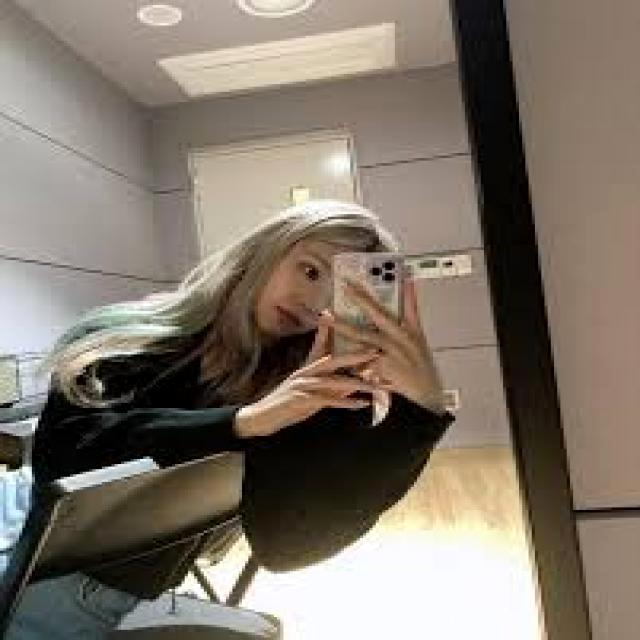lens_back: (381, 272, 396, 284), (370, 265, 382, 278), (381, 260, 396, 270)
phone: (331, 251, 406, 388)
